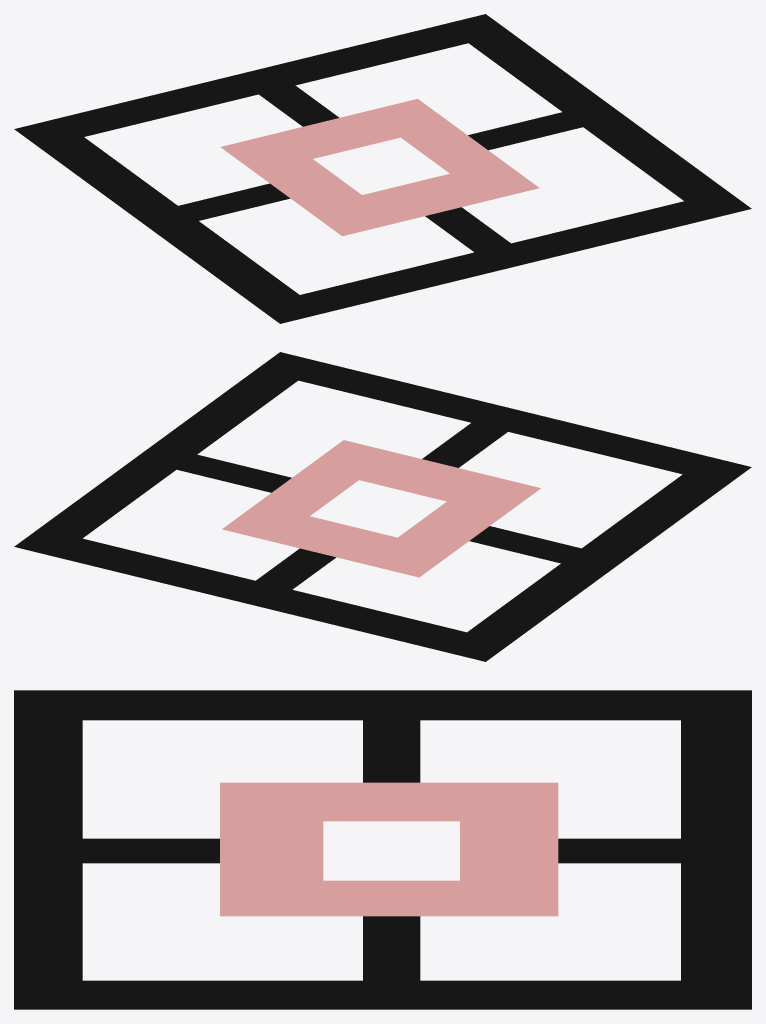
File: Roads.FBX
3 renders of one model, top to bottom at view 1: azimuth 30°, elevation 25°; view 2: azimuth 150°, elevation 25°; view 3: azimuth 270°, elevation 25°, orthographic. The views are drawn at different scales.
Visible parts, largest first — view 1: Roads; view 2: Roads; view 3: Roads.
Boxes of the visible parts, x1,y1,x2,y2 form: Roads: [14, 14, 751, 323]; Roads: [14, 352, 751, 661]; Roads: [14, 690, 751, 1009].
Size of the model in its own units: 7920 by 4.74e-13 by 7740.
